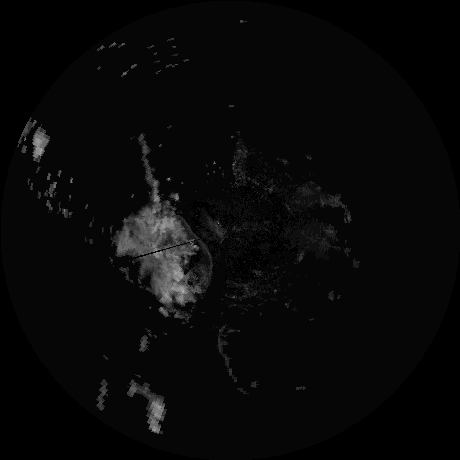frontgust: (214, 328, 247, 395), (137, 134, 159, 205), (197, 240, 215, 285)
